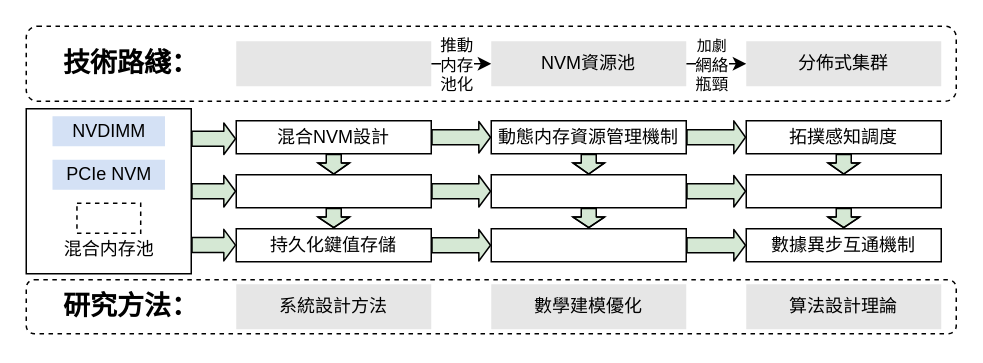
Some shapes in this 983 by 363 pixel diagram are drawn without their labels. The shapes that lost their labels are listed below. From the top down, each one's centre as x and y in pixels, then its label:
At point 333,63: "一體化存儲".
At point 333,190: "協作式元數據管理".
At point 588,190: "多層級資源分配與共享".
At point 843,190: "數據交換優化".
At point 108,217: "數據".
At point 588,244: "基於異構内存數據管理".
